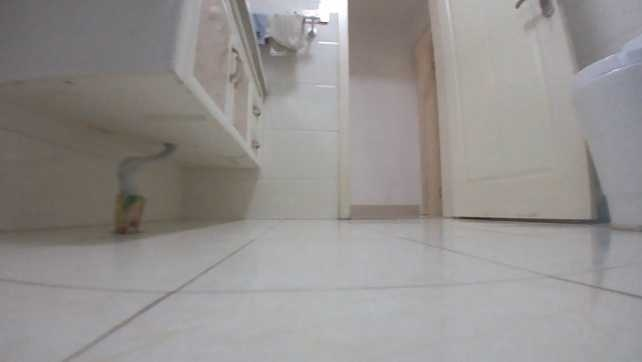door_anno: (429, 1, 599, 220)
toilet: (568, 35, 639, 228)
washstand: (1, 0, 270, 170)
